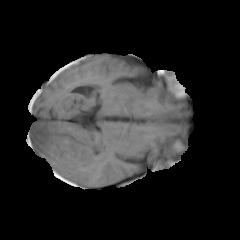glioma: (29, 122, 107, 184)
